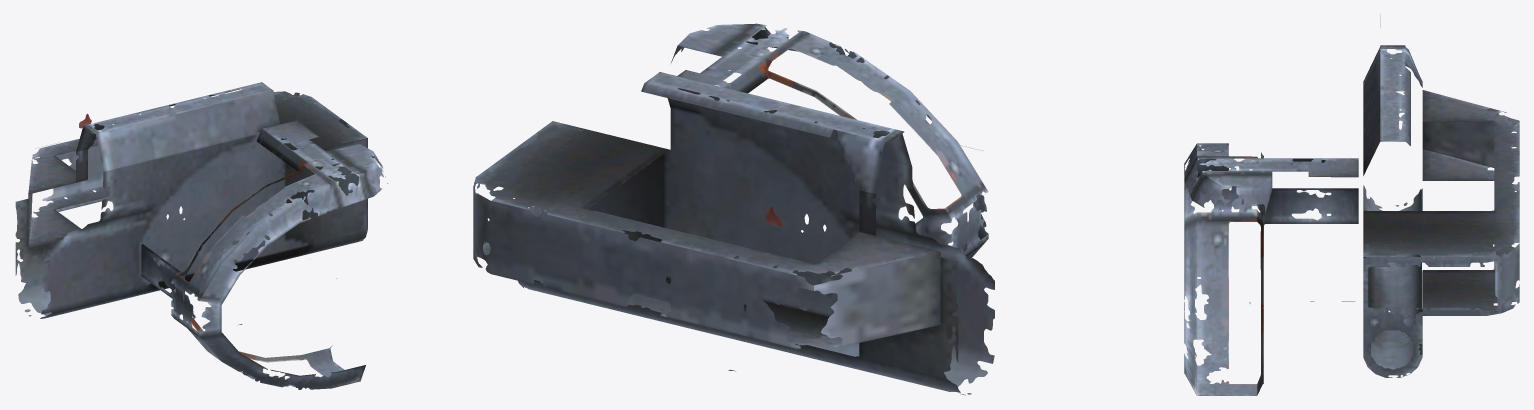
The model's file is eqp_motor_small_s02_l0.fbx.
3 renders of one model, left to right at view 1: azimuth 30°, elevation 25°; view 2: azimuth 150°, elevation 25°; view 3: azimuth 270°, elevation 25°, orthographic. The views are drawn at different scales.
Visible parts, largest first — view 1: mesh_node; view 2: mesh_node; view 3: mesh_node.
Boxes of the visible parts, x1,y1,x2,y2 form: mesh_node: (15, 82, 388, 389); mesh_node: (473, 23, 994, 395); mesh_node: (1184, 14, 1519, 395).
Size of the model in its own units: 0.3389 by 0.2341 by 0.3833.
1 material, 1 textured.
